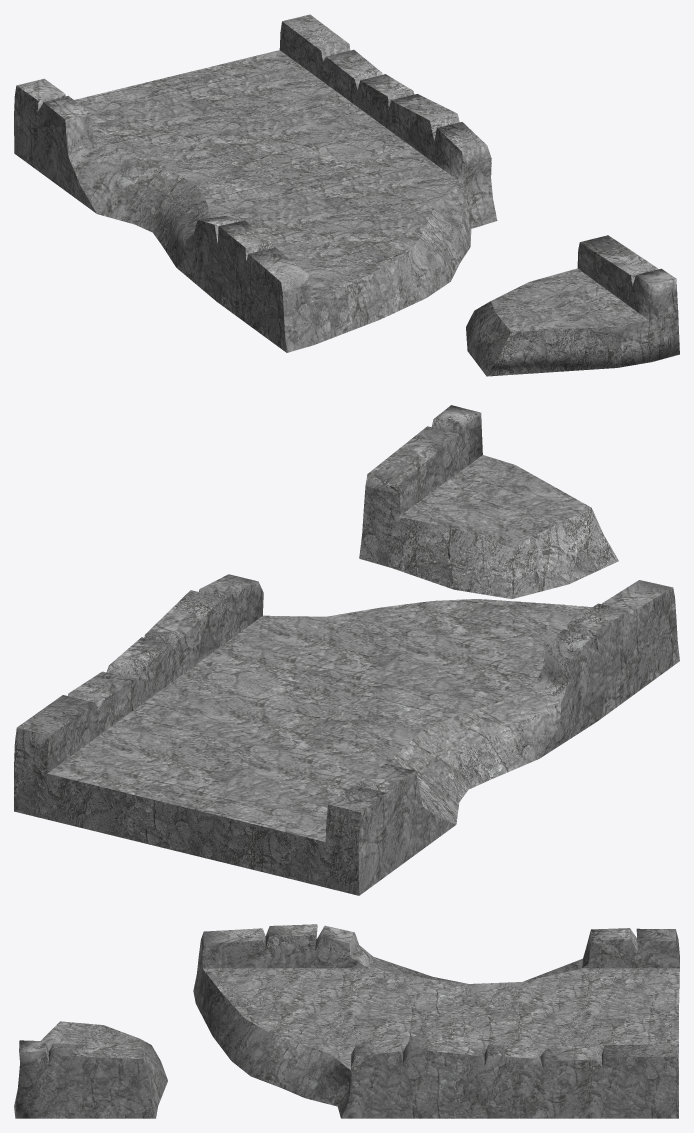
File: materials_3_road_4.fbx
The picture shows the model from 3 angles, top to bottom: view 1: azimuth 30°, elevation 25°; view 2: azimuth 150°, elevation 25°; view 3: azimuth 270°, elevation 25°; orthographic projection. The views are drawn at different scales.
Parts seen in each view (by area): view 1: materials_3_road_4; view 2: materials_3_road_4; view 3: materials_3_road_4.
Part boxes in pixels (x1,y1,x2,y2): materials_3_road_4: (14, 14, 679, 376); materials_3_road_4: (14, 405, 679, 895); materials_3_road_4: (14, 924, 679, 1118).
Bounding box in the file's own units: 235 × 59.61 × 515.
